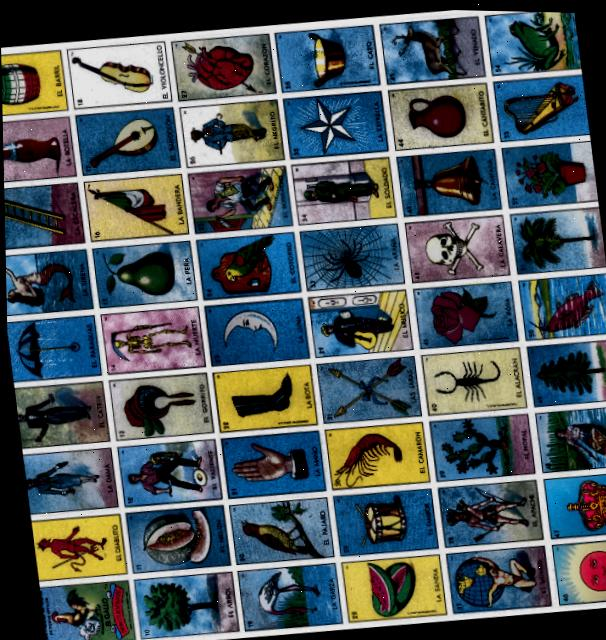El Alacran: (419, 343, 524, 414)
El Apache: (434, 475, 539, 546)
El Arbol: (129, 569, 235, 640)
El Arpa: (492, 69, 589, 139)
El Bandolon: (73, 105, 178, 176)
El Barril: (1, 48, 66, 117)
El Borracho: (185, 163, 291, 235)
El Camaron: (322, 418, 426, 488)
El Cantarito: (387, 79, 492, 149)
El Catrin: (12, 380, 105, 449)
El Cazo: (273, 21, 378, 92)
El Chalupa: (531, 401, 606, 470)
El Corazon: (169, 30, 274, 101)
El Cotorro: (193, 228, 299, 299)
El Diablito: (28, 511, 123, 580)
El Garza: (233, 559, 338, 631)
El Gorrito: (106, 370, 210, 442)
El Melon: (122, 502, 226, 573)
El Mundo: (443, 543, 547, 613)
El Musico: (306, 286, 410, 357)
El Negrito: (179, 96, 283, 167)
El Nopal: (427, 409, 531, 480)
El Pajaro: (226, 494, 330, 565)
El Paraguas: (5, 312, 99, 382)
El Pescado: (517, 269, 606, 338)
El Pino: (523, 334, 606, 404)
El Sol: (547, 533, 606, 602)
El Soldado: (290, 154, 394, 225)
El Tambor: (330, 484, 435, 556)
El Valiente: (115, 436, 219, 507)
El Venado: (379, 13, 484, 82)
El Violoncello: (66, 39, 170, 109)
Gallo: (36, 577, 131, 640)
La Arana: (298, 220, 402, 290)
La Bandera: (82, 170, 187, 241)
La Bota: (210, 362, 314, 432)
La Botella: (2, 113, 74, 182)
La Calavera: (403, 211, 507, 281)
La Campana: (395, 145, 500, 215)
La Corona: (540, 467, 606, 536)
La Dama: (20, 444, 113, 514)
La Escalera: (3, 181, 81, 249)
La Estrella: (282, 87, 386, 158)
La Luna: (202, 295, 307, 365)
La Maceta: (500, 136, 597, 206)
La Mano: (218, 427, 322, 498)
La Muerte: (98, 304, 202, 374)
La Palma: (507, 203, 605, 272)
La Pera: (90, 237, 195, 308)
La Rana: (484, 8, 581, 72)
La Rosa: (409, 276, 515, 348)
La Sandia: (337, 552, 442, 622)
La Sirena: (4, 247, 89, 316)
Las Jaras: (314, 352, 418, 423)
